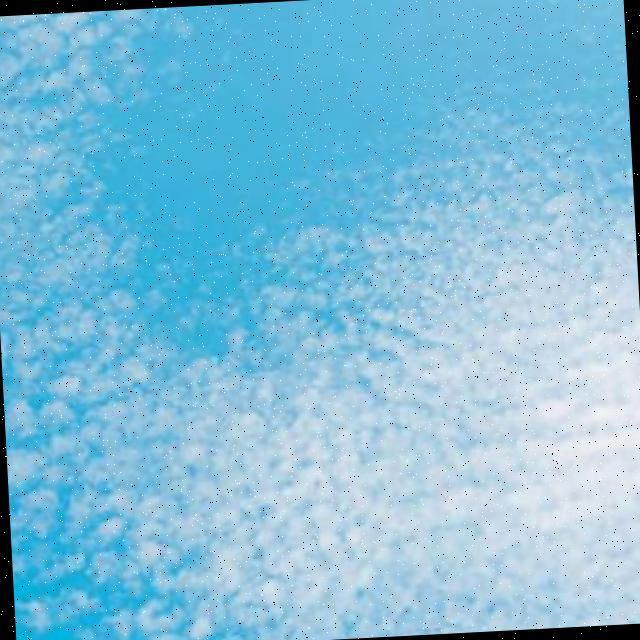Cc: (19, 68, 640, 640)
